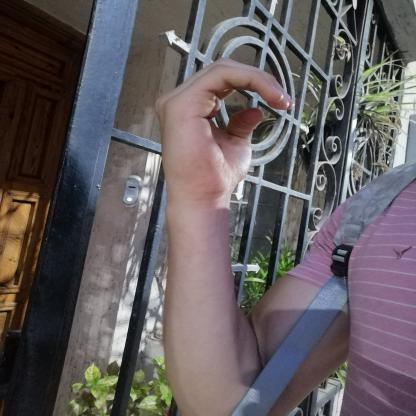JEEM: (135, 48, 306, 207)
